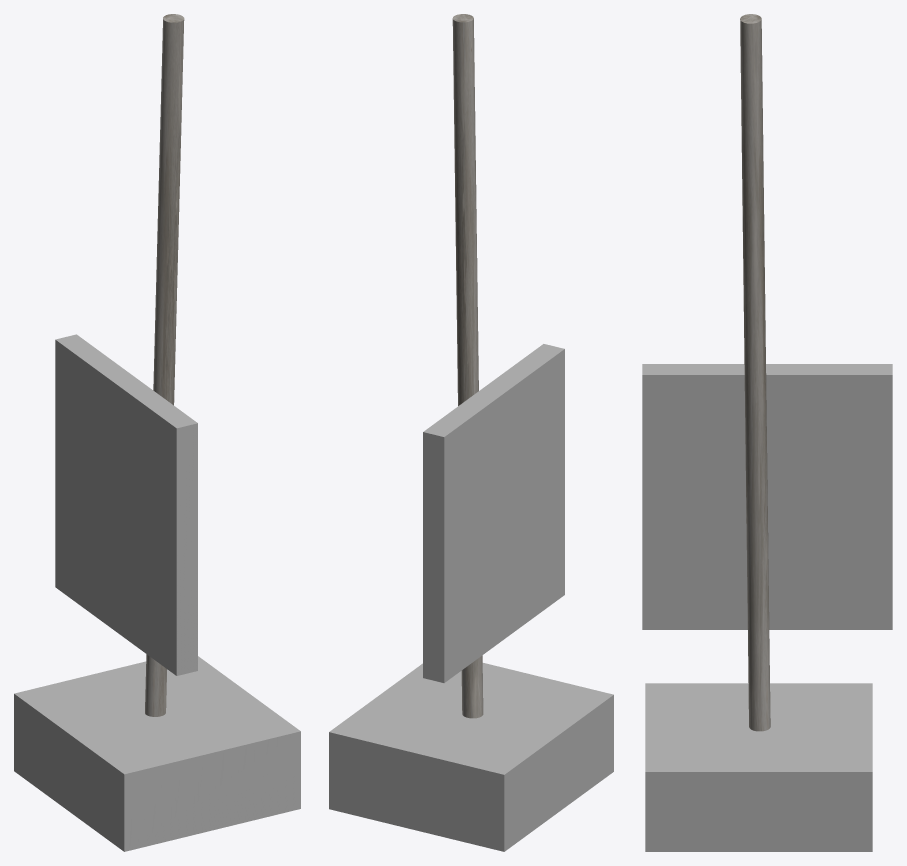
Rendered from AssemblyPointUpdated.fbx.
3 renders of one model, left to right at view 1: azimuth 30°, elevation 25°; view 2: azimuth 150°, elevation 25°; view 3: azimuth 270°, elevation 25°, orthographic. The views are drawn at different scales.
Parts seen in each view (by area): view 1: d__1_, d, Cylinder__1_; view 2: d__1_, d, Cylinder__1_; view 3: d, d__1_, Cylinder__1_.
Part boxes in pixels (x1=…): d__1_: x1=14, y1=656, x2=300, y2=851; d: x1=55, y1=334, x2=197, y2=675; Cylinder__1_: x1=145, y1=14, x2=184, y2=716; d__1_: x1=329, y1=663, x2=613, y2=851; d: x1=423, y1=344, x2=564, y2=682; Cylinder__1_: x1=452, y1=14, x2=483, y2=718; d: x1=642, y1=364, x2=892, y2=629; d__1_: x1=645, y1=683, x2=872, y2=851; Cylinder__1_: x1=740, y1=14, x2=770, y2=731.
Bounding box in the file's own units: 192 × 811 × 229.
